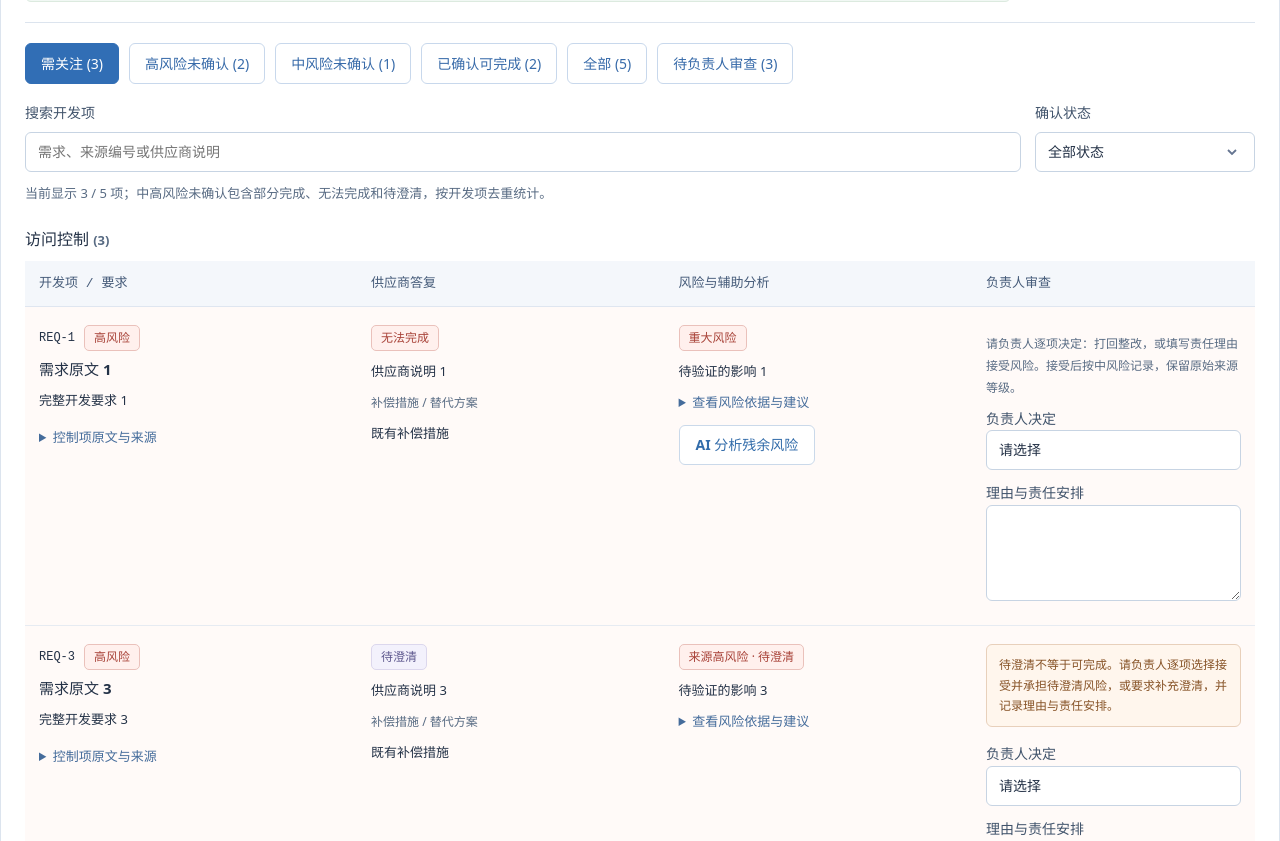
Test: runs single-item AI only on request inside its table row and preserves review input
(page scrolled)
Select "要求修改或补充证据" in the dropdown labelled "负责人决定" below "重大风险" at (1114, 450), box [986,430,1241,470]
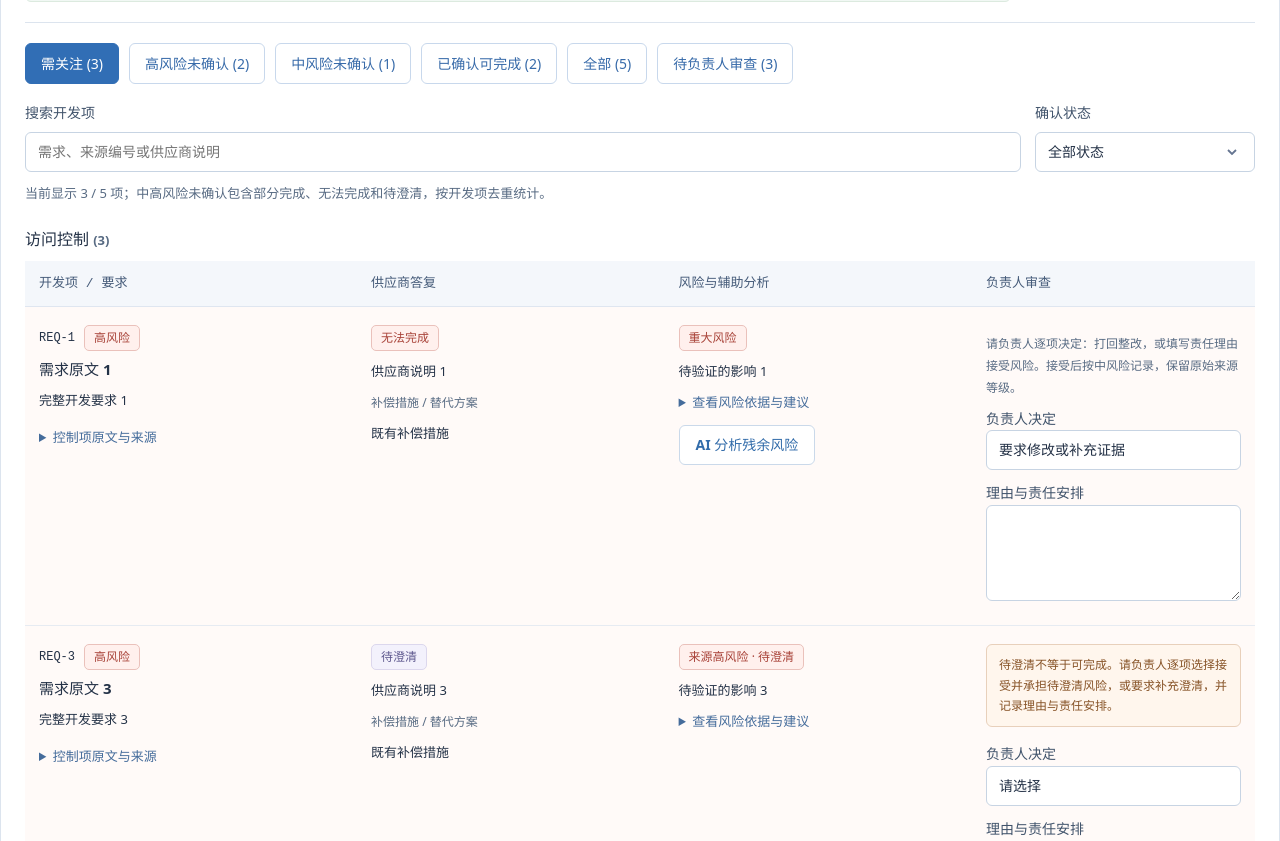
Type "保留我的审查意见" into the text box labelled "理由与责任安排" below "重大风险" at (1114, 553), box [986,505,1241,601]
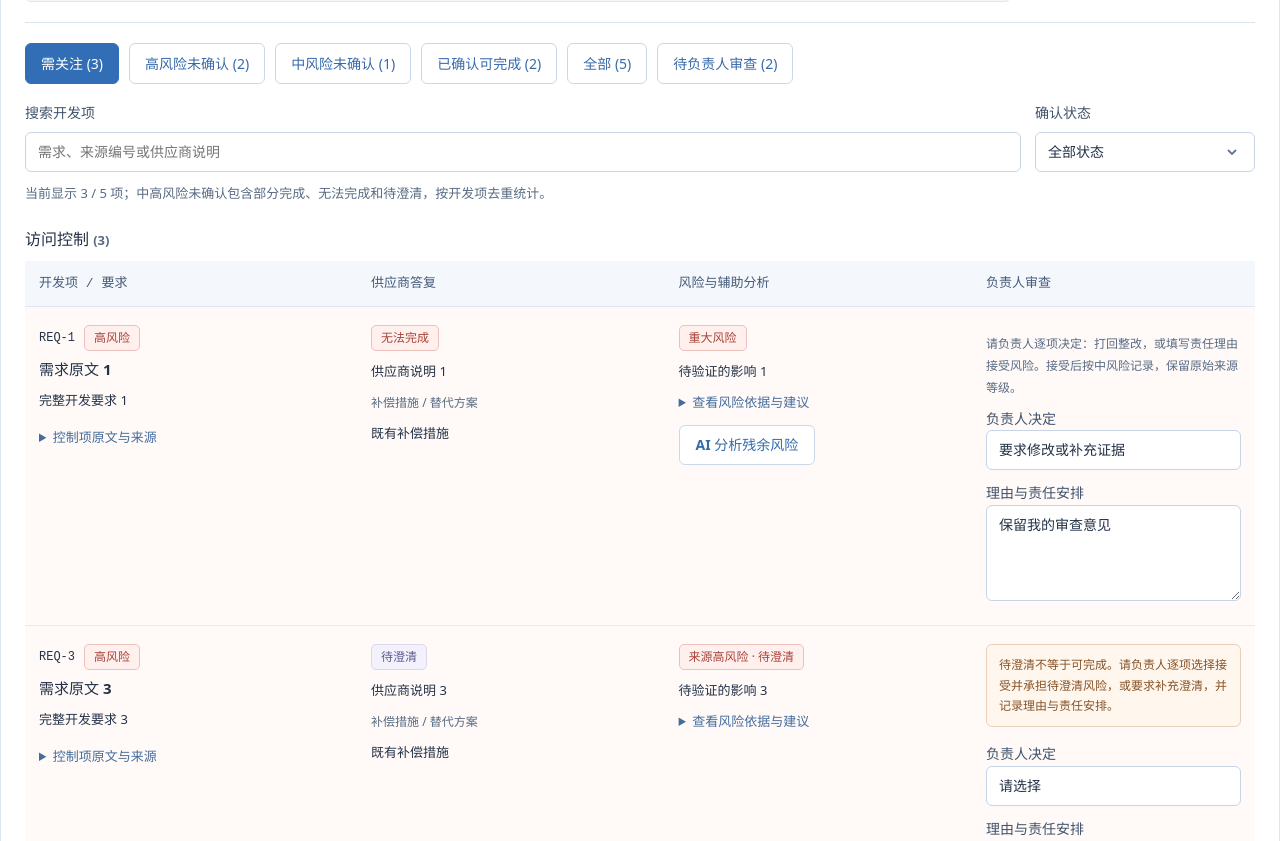
Click the button "AI 分析残余风险" at (747, 445), box [679,425,815,465]
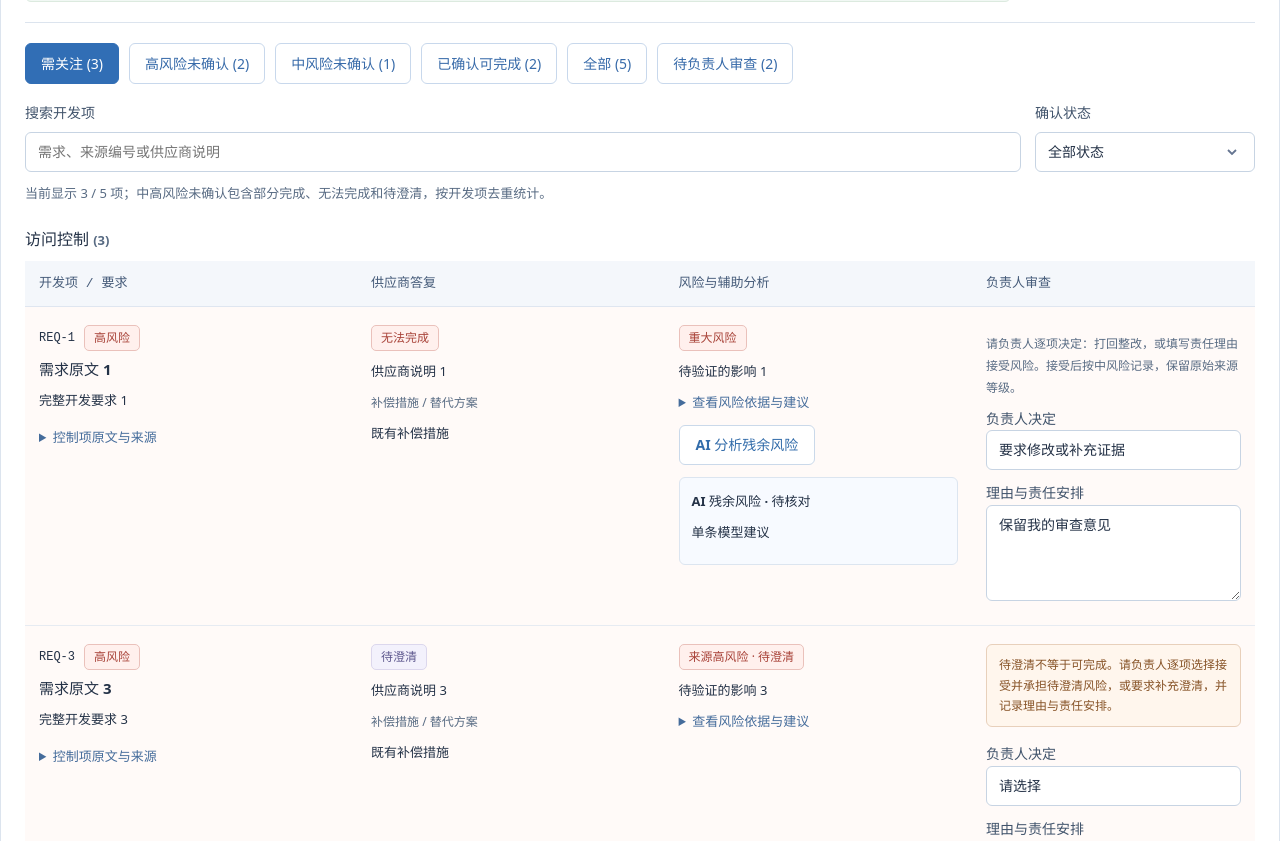
Result: the text "单条模型建议" is shown at [692,523,770,541]
Result: the text "AI 残余风险 · 待核对" is shown at [692,492,810,510]
